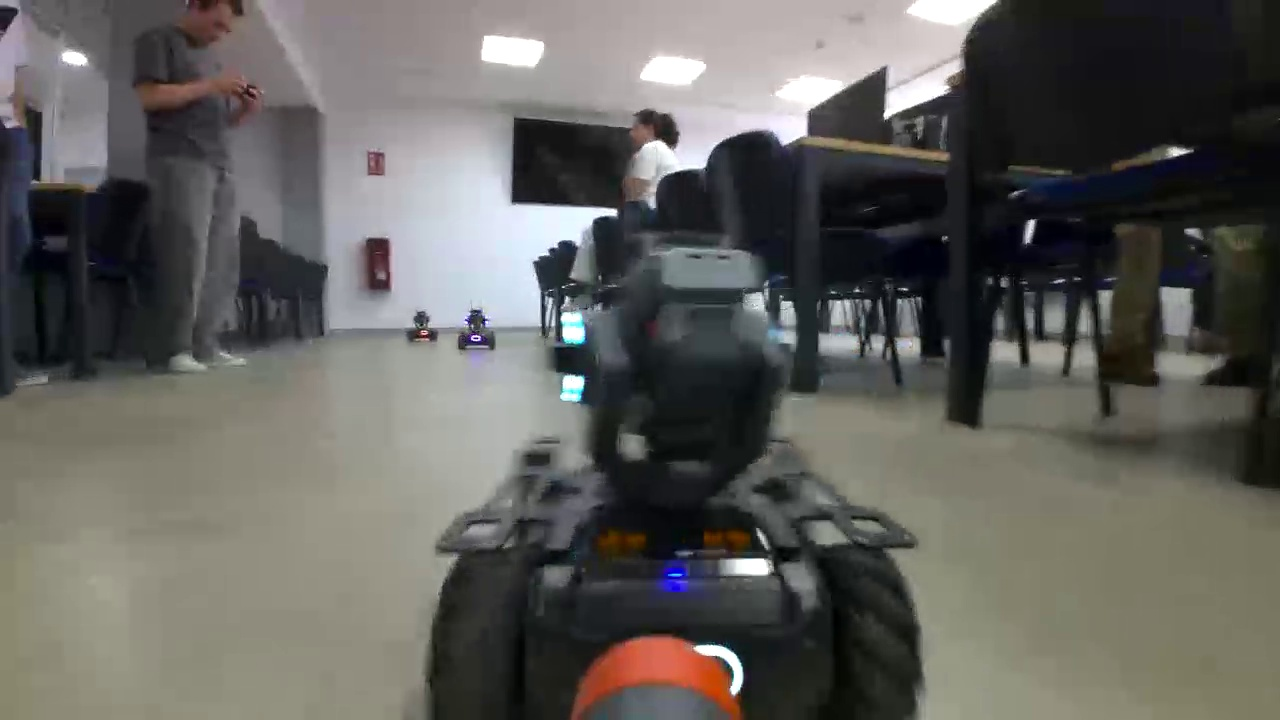robot: (434, 243, 921, 720), (458, 307, 498, 350), (406, 311, 439, 343)
